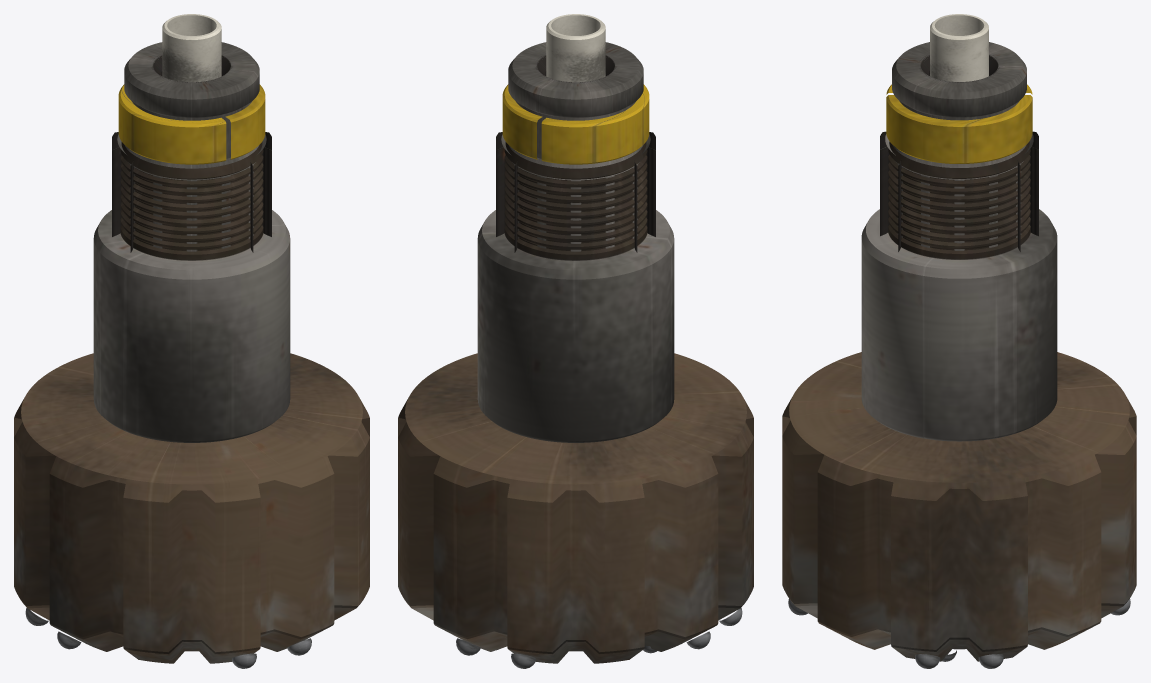
The model's file is SM_Bit_10po_AvecChuck.glb.
3 views of the same model, side by side, from view 1: azimuth 30°, elevation 25°; view 2: azimuth 150°, elevation 25°; view 3: azimuth 270°, elevation 25° (orthographic).
Parts seen in each view (by area): view 1: Bit_10po_AvecChuck_Bit, Bit_10po_AvecChuck_Chuck, Bit_10po_AvecChuck_Anneaux, Bit_10po_AvecChuck_TubeDePied, Bit_10po_AvecChuck_Boutons; view 2: Bit_10po_AvecChuck_Bit, Bit_10po_AvecChuck_Chuck, Bit_10po_AvecChuck_Anneaux, Bit_10po_AvecChuck_TubeDePied, Bit_10po_AvecChuck_Boutons; view 3: Bit_10po_AvecChuck_Bit, Bit_10po_AvecChuck_Chuck, Bit_10po_AvecChuck_Anneaux, Bit_10po_AvecChuck_TubeDePied, Bit_10po_AvecChuck_Boutons.
Boxes of the visible parts, x1,y1,x2,y2 form: Bit_10po_AvecChuck_Bit: (14,42,369,663); Bit_10po_AvecChuck_Chuck: (93,132,290,442); Bit_10po_AvecChuck_Anneaux: (118,84,265,164); Bit_10po_AvecChuck_TubeDePied: (162,14,221,82); Bit_10po_AvecChuck_Boutons: (25,608,311,668); Bit_10po_AvecChuck_Bit: (398,42,753,663); Bit_10po_AvecChuck_Chuck: (477,132,674,442); Bit_10po_AvecChuck_Anneaux: (502,84,649,164); Bit_10po_AvecChuck_TubeDePied: (546,14,605,82); Bit_10po_AvecChuck_Boutons: (456,608,742,668); Bit_10po_AvecChuck_Bit: (782,42,1136,661); Bit_10po_AvecChuck_Chuck: (861,131,1057,441); Bit_10po_AvecChuck_Anneaux: (886,84,1032,163); Bit_10po_AvecChuck_TubeDePied: (930,14,988,81); Bit_10po_AvecChuck_Boutons: (788,599,1130,668).
Size of the model in its own units: 0.2518 by 0.4591 by 0.2518.
5 materials, 5 textured.
